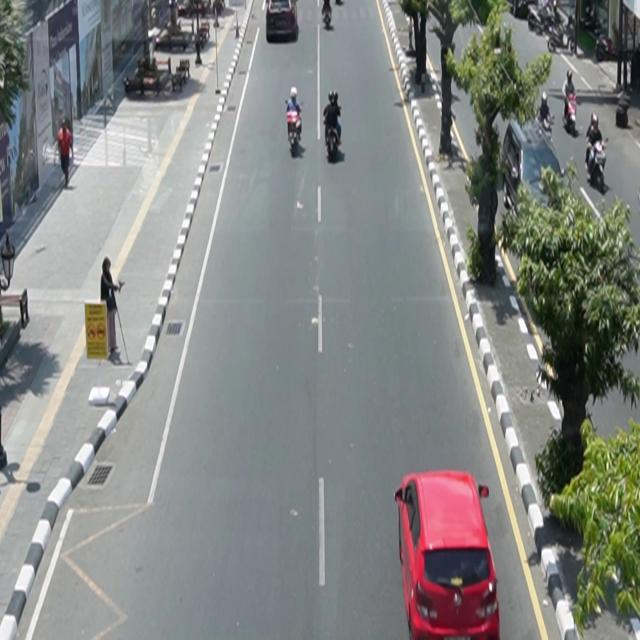car: (395, 471, 501, 640), (501, 117, 566, 222), (266, 1, 298, 42)
